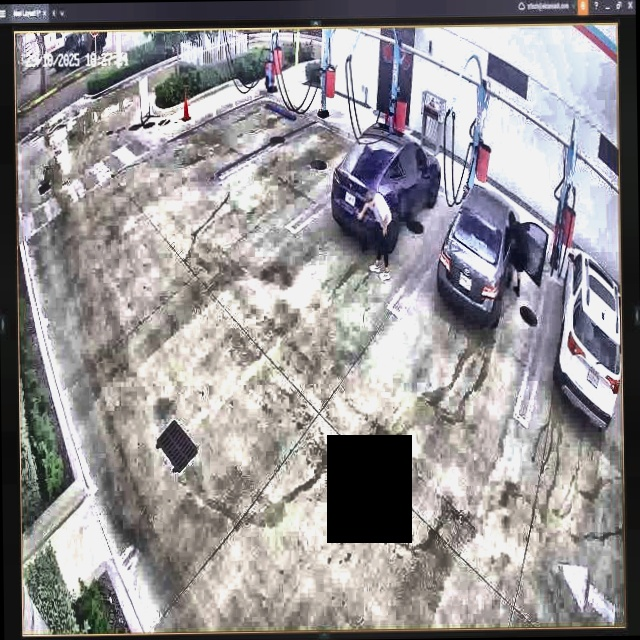Car: (437, 184, 548, 316), (329, 122, 443, 245)
